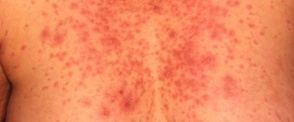SJS-TEN: (37, 2, 255, 122)
